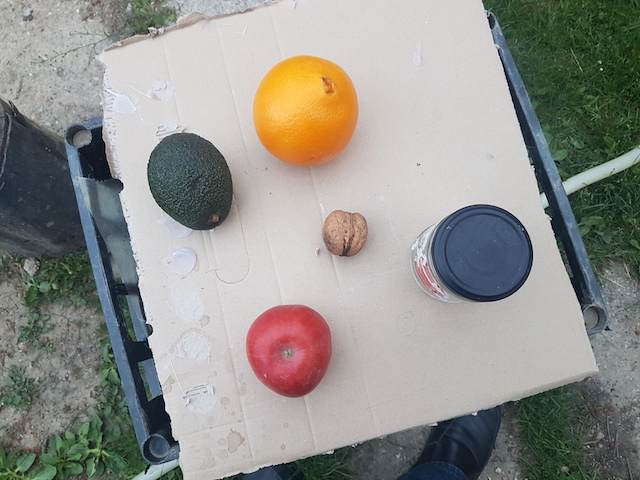apple: (243, 300, 336, 400)
avocado: (143, 128, 236, 232)
nut: (319, 203, 369, 258)
orange: (248, 52, 365, 167)
recipient: (432, 202, 532, 300)
